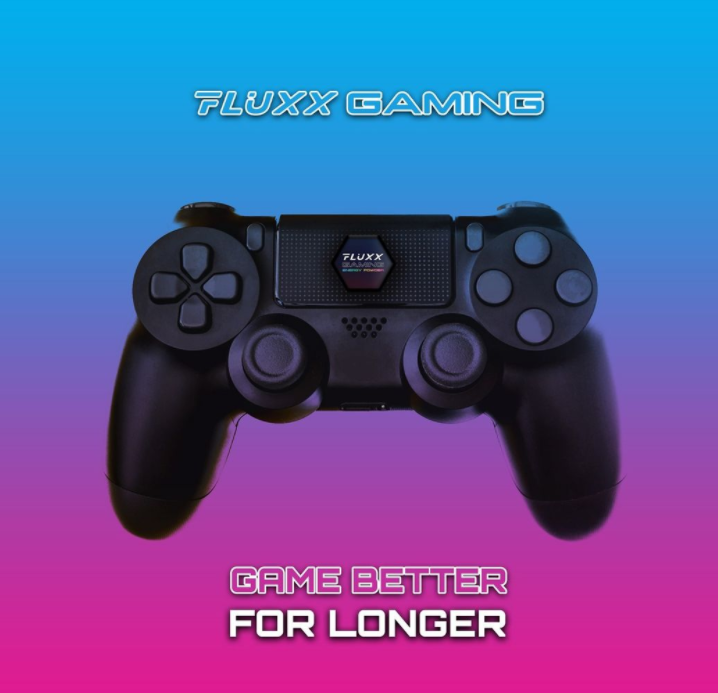gamingconsole: (108, 200, 623, 545)
